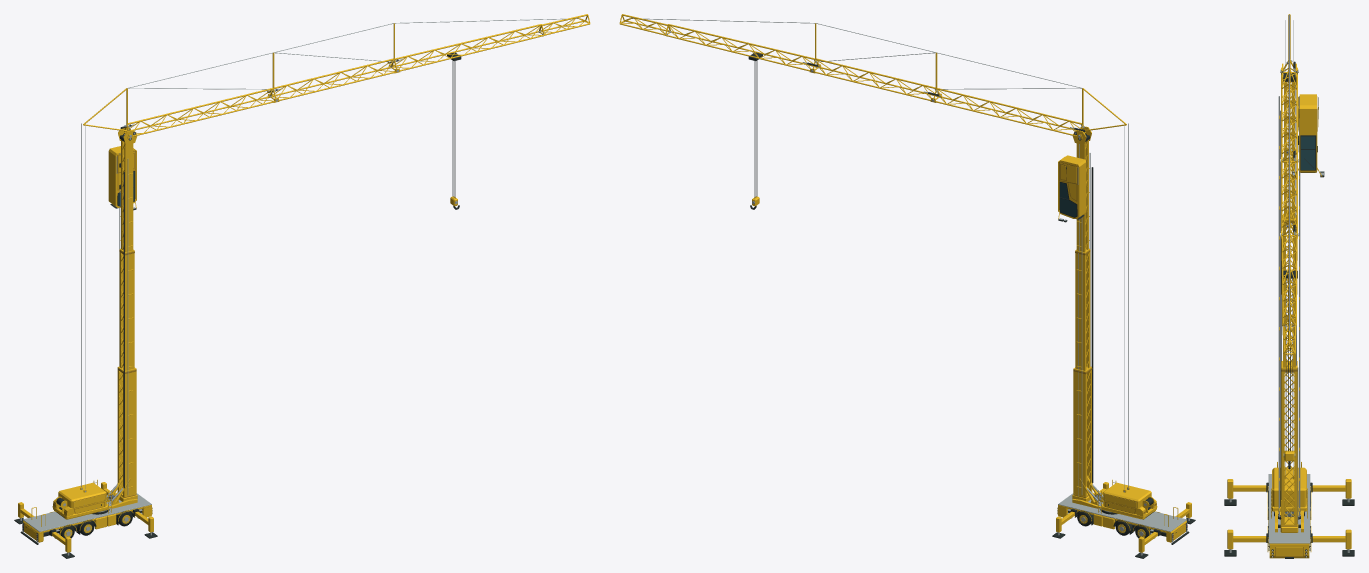
Rendered from cityboy-working.glb.
The picture shows the model from 3 angles, left to right: view 1: azimuth 30°, elevation 25°; view 2: azimuth 150°, elevation 25°; view 3: azimuth 270°, elevation 25°; orthographic projection. The views are drawn at different scales.
Visible parts, largest first — view 1: CityBoy_Upperworks/paint, CityBoy_Upperworks/steel, CityBoy_Working/paint, CityBoy_Working/steel, CityBoy_Upperworks/dark; view 2: CityBoy_Upperworks/paint, CityBoy_Upperworks/steel, CityBoy_Working/paint, CityBoy_Upperworks/dark, CityBoy_Working/steel; view 3: CityBoy_Upperworks/paint, CityBoy_Upperworks/steel, CityBoy_Working/paint, CityBoy_Upperworks/dark, CityBoy_Working/steel, CityBoy_Working/dark, CityBoy_HoistLines/dark, CityBoy_Upperworks/roofglass, CityBoy_Upperworks/edge.
Boxes of the visible parts, x1=… form: CityBoy_Upperworks/paint: x1=52, y1=14, x2=590, y2=519; CityBoy_Upperworks/steel: x1=63, y1=18, x2=577, y2=512; CityBoy_Working/paint: x1=18, y1=482, x2=153, y2=552; CityBoy_Working/steel: x1=20, y1=493, x2=151, y2=555; CityBoy_Upperworks/dark: x1=56, y1=52, x2=461, y2=517; CityBoy_Upperworks/paint: x1=619, y1=14, x2=1157, y2=519; CityBoy_Upperworks/steel: x1=632, y1=18, x2=1146, y2=512; CityBoy_Working/paint: x1=1056, y1=482, x2=1191, y2=552; CityBoy_Upperworks/dark: x1=748, y1=52, x2=1153, y2=517; CityBoy_Working/steel: x1=1058, y1=493, x2=1189, y2=555; CityBoy_Upperworks/paint: x1=1271, y1=14, x2=1322, y2=532; CityBoy_Upperworks/steel: x1=1271, y1=14, x2=1323, y2=523; CityBoy_Working/paint: x1=1227, y1=462, x2=1351, y2=558; CityBoy_Upperworks/dark: x1=1278, y1=61, x2=1324, y2=527; CityBoy_Working/steel: x1=1229, y1=474, x2=1349, y2=552; CityBoy_Working/dark: x1=1224, y1=482, x2=1354, y2=558; CityBoy_HoistLines/dark: x1=1286, y1=279, x2=1292, y2=451; CityBoy_Upperworks/roofglass: x1=1301, y1=136, x2=1315, y2=169; CityBoy_Upperworks/edge: x1=1272, y1=81, x2=1317, y2=526.
Bounding box in the file's own units: 48.58 × 35.76 × 7.84.
